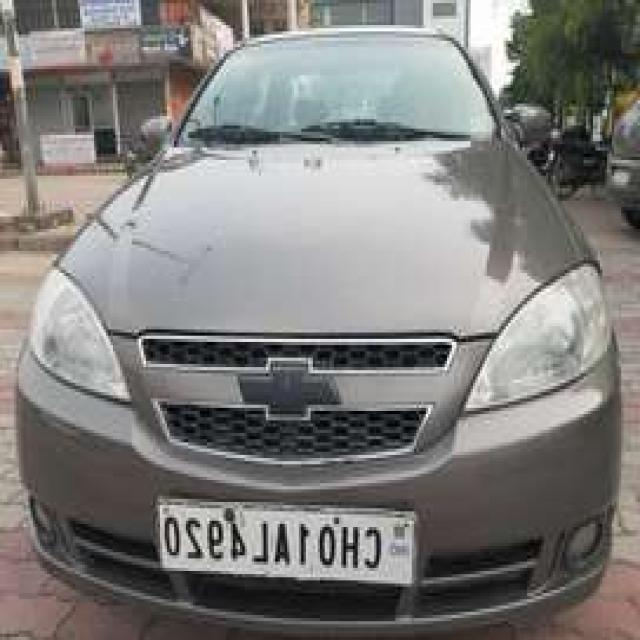license_plate: (151, 494, 419, 593)
